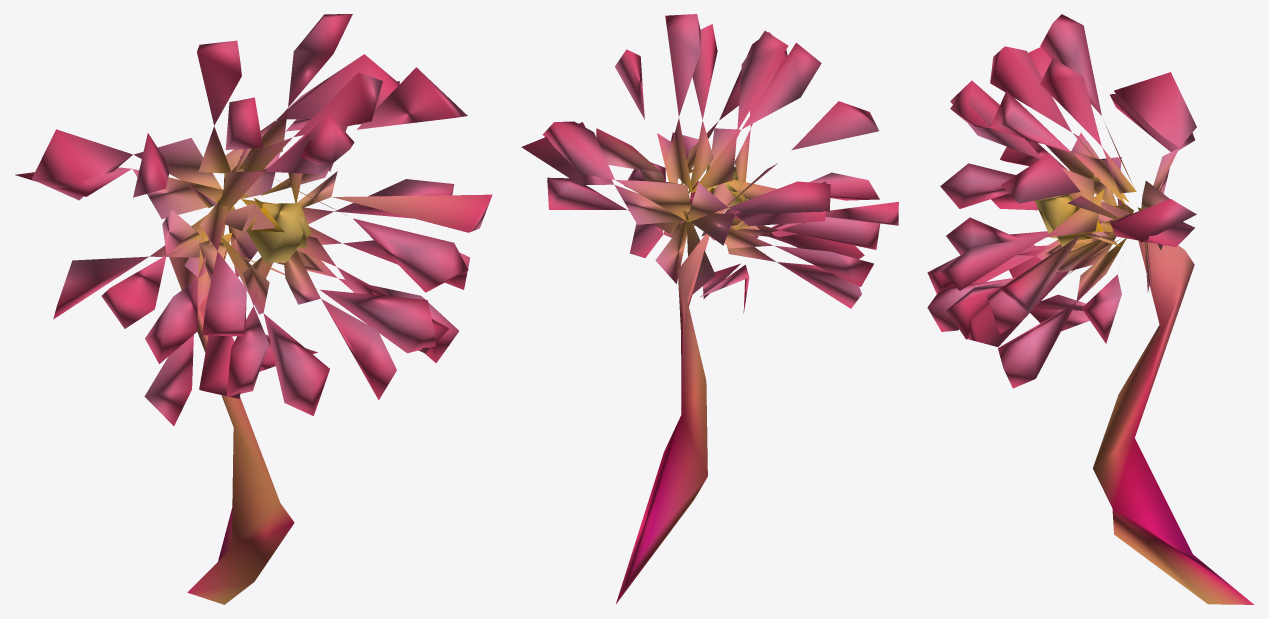
The model's file is mesh_lod_5_4f6a5346-9dbe-52c9-aa7c-2db4c4a6b72e.glb.
3 views of the same model, side by side, from view 1: azimuth 30°, elevation 25°; view 2: azimuth 150°, elevation 25°; view 3: azimuth 270°, elevation 25° (orthographic). The views are drawn at different scales.
Visible parts, largest first — view 1: LOD 5_4f6a5346-9dbe-52c9-aa7c-2db4c4a6b72e; view 2: LOD 5_4f6a5346-9dbe-52c9-aa7c-2db4c4a6b72e; view 3: LOD 5_4f6a5346-9dbe-52c9-aa7c-2db4c4a6b72e.
Boxes of the visible parts, left/top/right/bottom form: LOD 5_4f6a5346-9dbe-52c9-aa7c-2db4c4a6b72e: left=15, top=14, right=492, bottom=604; LOD 5_4f6a5346-9dbe-52c9-aa7c-2db4c4a6b72e: left=521, top=14, right=898, bottom=603; LOD 5_4f6a5346-9dbe-52c9-aa7c-2db4c4a6b72e: left=927, top=14, right=1253, bottom=604.
Size of the model in its own units: 1.43 by 2.21 by 1.18.
